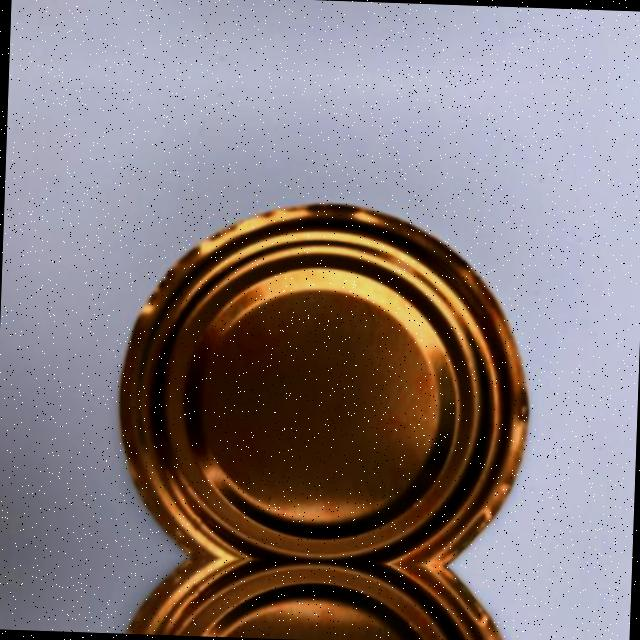Metal: (91, 172, 578, 569), (88, 552, 565, 640)
